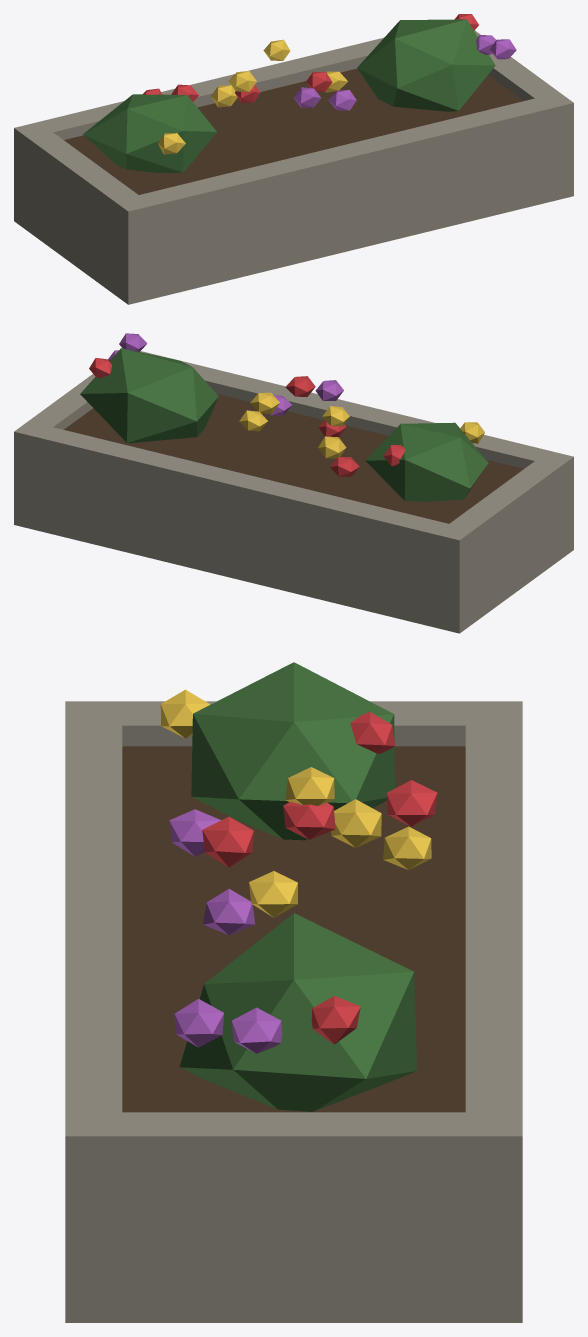
File: pra-canteiro.gltf
The picture shows the model from 3 angles, top to bottom: view 1: azimuth 30°, elevation 25°; view 2: azimuth 150°, elevation 25°; view 3: azimuth 270°, elevation 25°; orthographic projection. The views are drawn at different scales.
Parts seen in each view (by area): view 1: pra-canteiro; view 2: pra-canteiro; view 3: pra-canteiro.
Boxes of the visible parts, bbox=[...] form: pra-canteiro: bbox=[14, 14, 573, 304]; pra-canteiro: bbox=[14, 333, 573, 633]; pra-canteiro: bbox=[65, 662, 522, 1322].
Bounding box in the file's own units: 1.8 × 0.5678 × 0.8.
